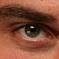eye: (25, 24, 40, 37)
